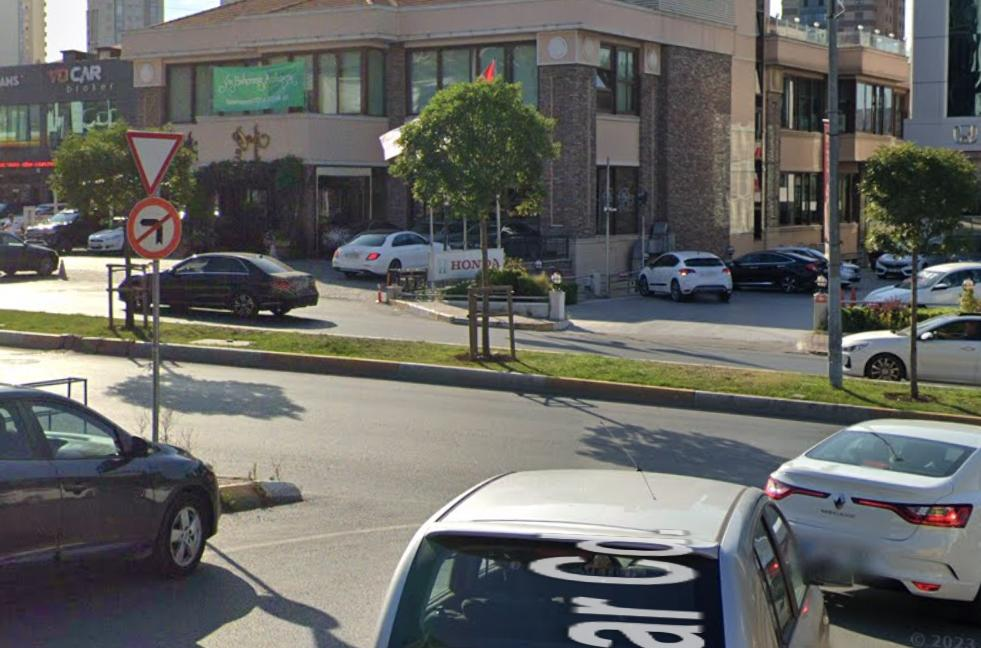leftturnsareforbidden: (126, 197, 183, 259)
